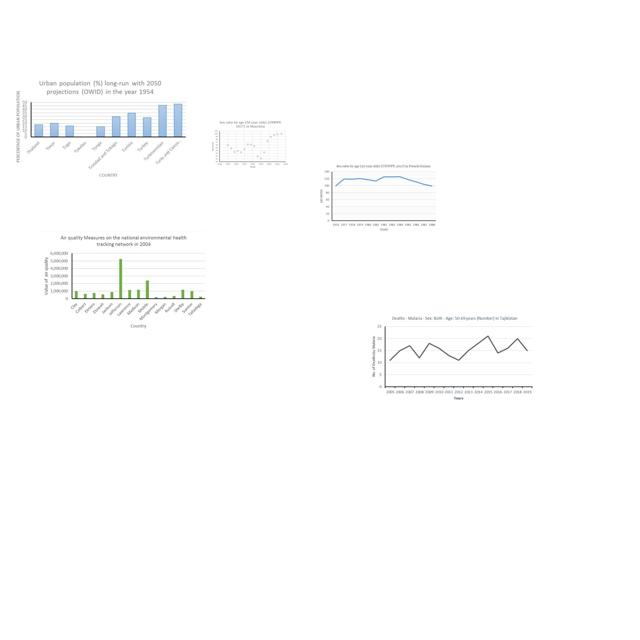Graph: (12, 77, 189, 181), (40, 231, 207, 330), (368, 313, 536, 403), (317, 162, 438, 233), (210, 120, 289, 169)
